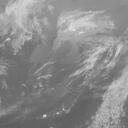cyclone: (36, 32, 103, 90)
